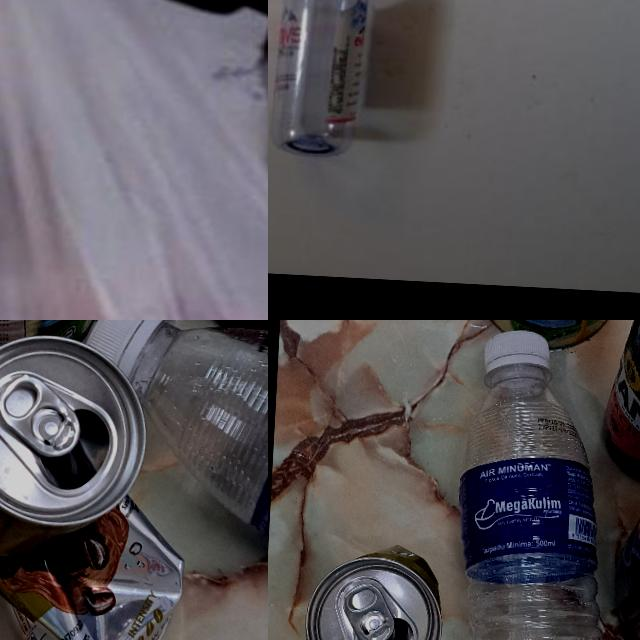aba de lata: (0, 368, 84, 456), (335, 576, 398, 640)
garrafa plástica: (444, 326, 640, 640), (130, 323, 268, 555), (268, 0, 382, 162)
lata: (0, 329, 196, 640), (299, 542, 472, 640)
sacola plástica: (0, 0, 268, 320)
tampa plástica: (479, 329, 552, 378), (87, 320, 154, 373)
